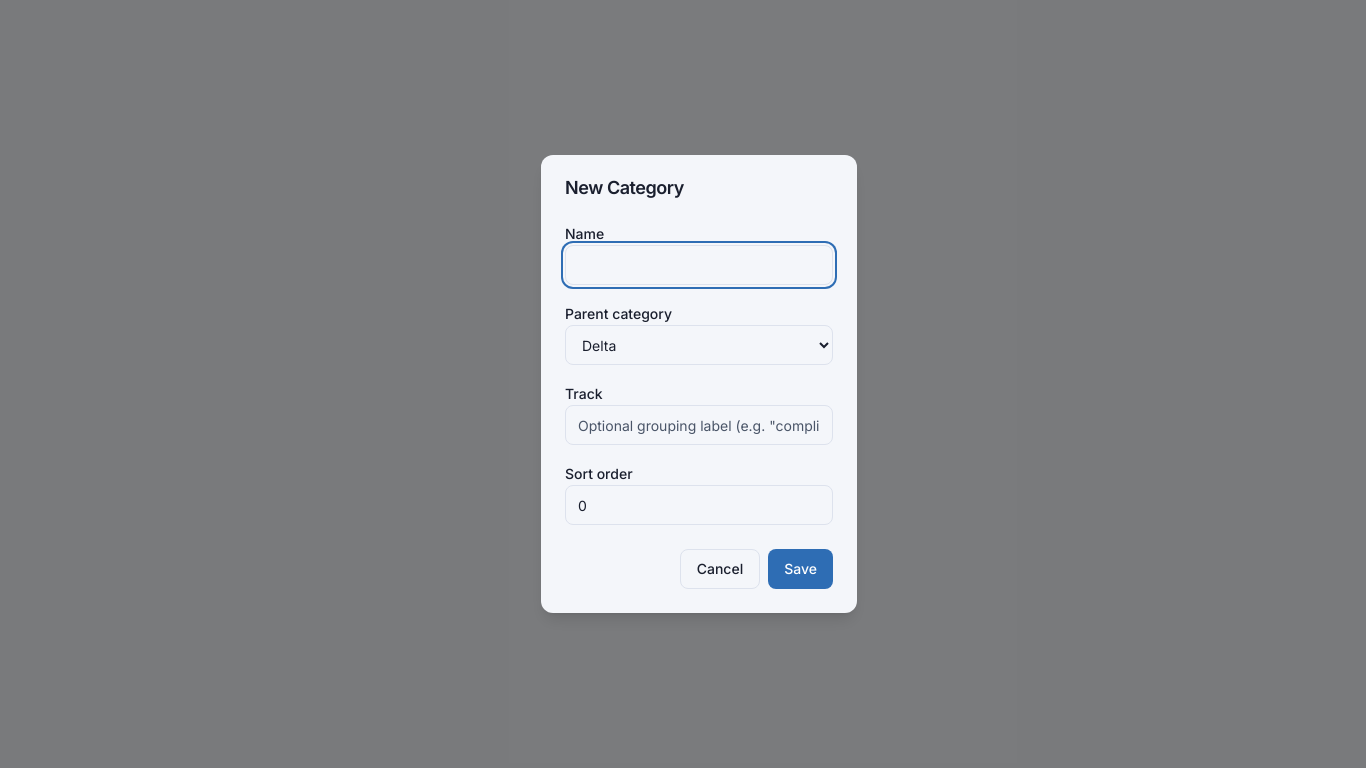
Test: CategoryEditModal - create mode › shows the parent-not-found error under Parent when the API reports PARENT_NOT_FOUND
Type "Orphan" into the field labelled "Name" at (699, 265), box [565,245,833,285]
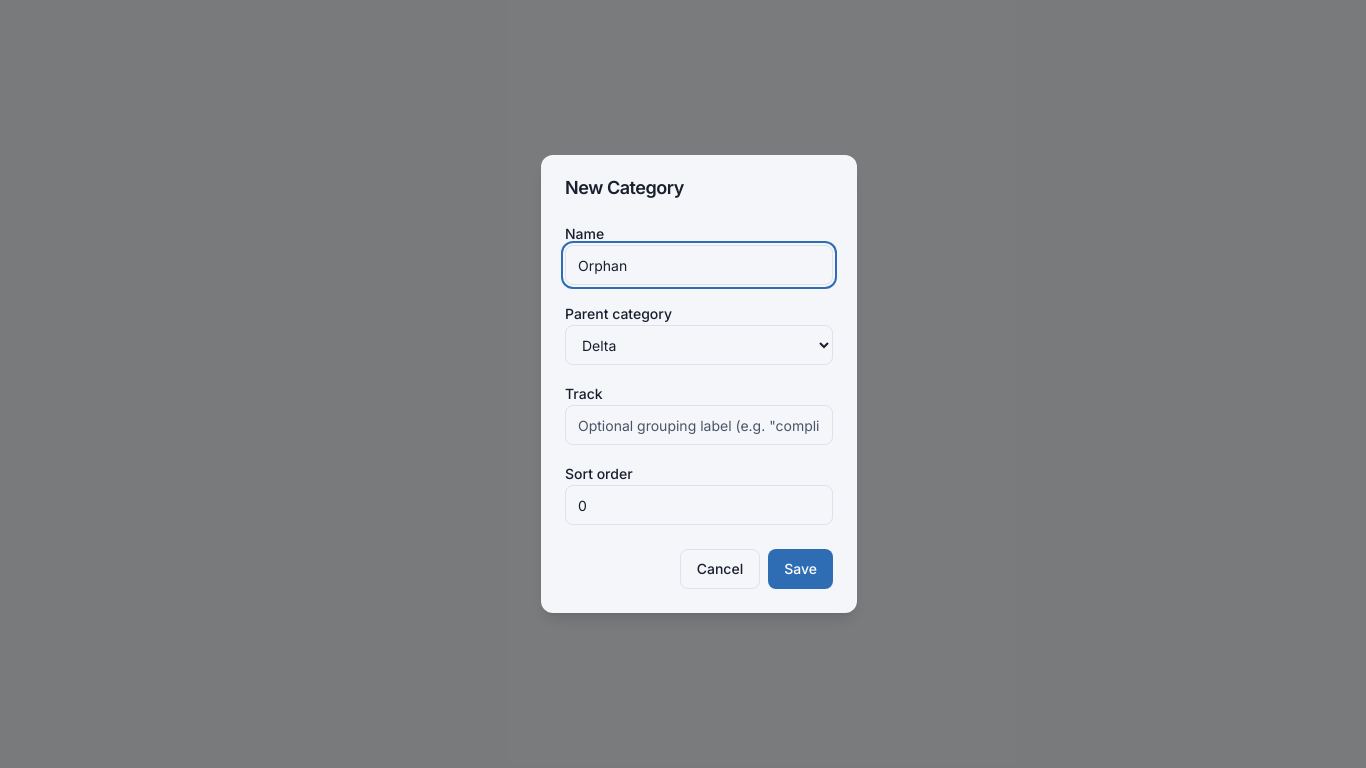
Click the button "Save" at (801, 569), box [768,549,833,589]
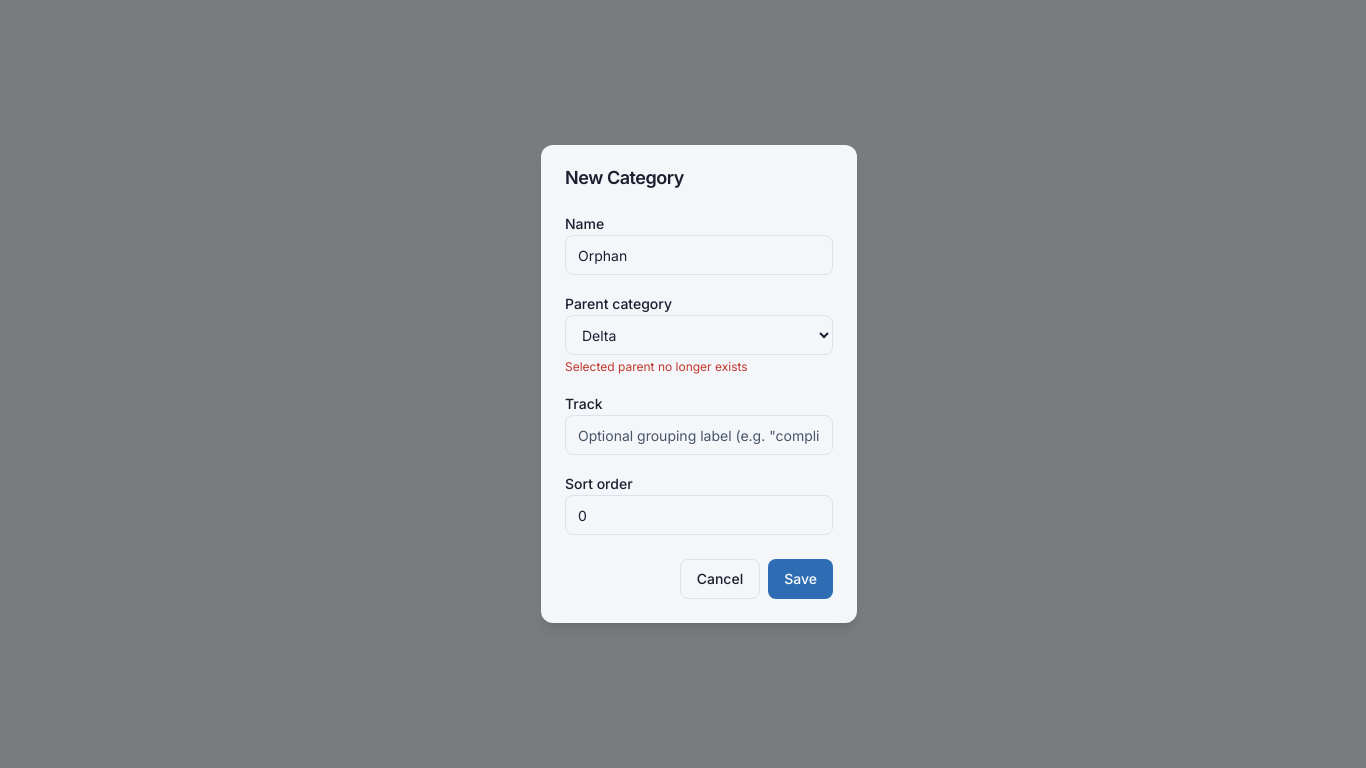
Expected: the text "Selected parent no longer exists" is shown, [565,359,748,374]
